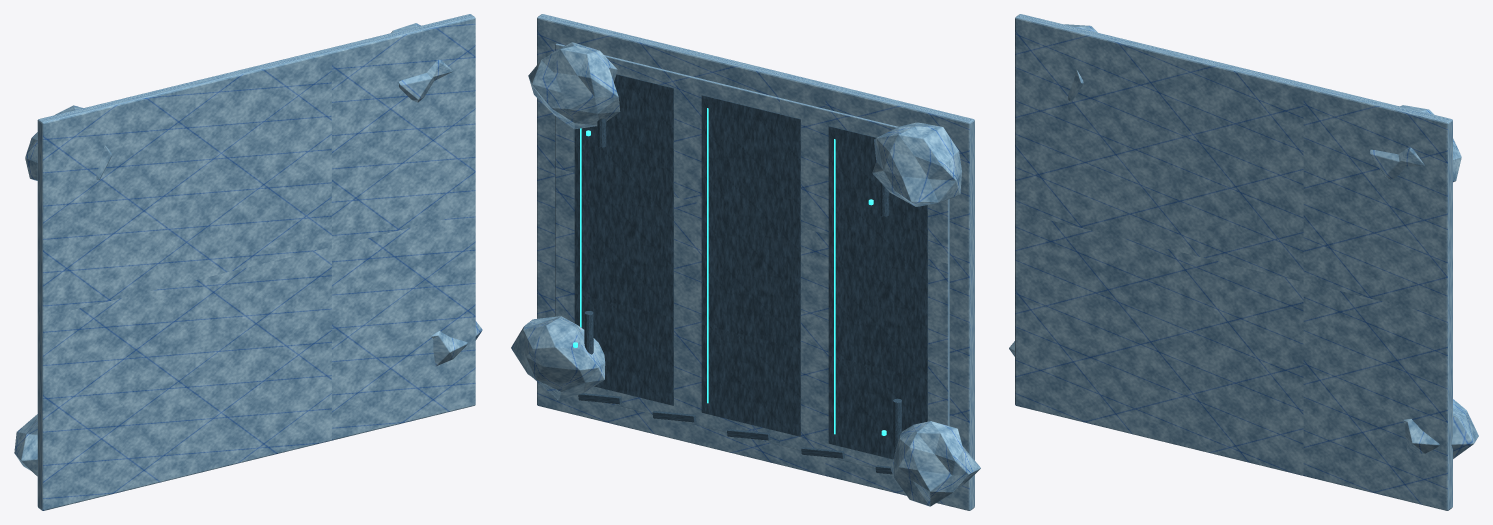
File: expanse_shelf.glb
3 views of the same model, side by side, from view 1: azimuth 30°, elevation 25°; view 2: azimuth 150°, elevation 25°; view 3: azimuth 330°, elevation 25° (orthographic).
Parts seen in each view (by area): view 1: ShelfMass, ShelfIceAnchor_3, ShelfIceAnchor_0, ShelfIceAnchor_1, ShelfIceAnchor_2; view 2: ShelfTop, ShelfPlate_0.0, ShelfMass, ShelfPlate_8.2, ShelfPlate_-8.2, ShelfIceAnchor_2, ShelfIceAnchor_3, ShelfIceAnchor_1, ShelfIceAnchor_0, ShelfGuide_-8.2, ShelfGuide_0.0; view 3: ShelfMass, ShelfIceAnchor_1, ShelfIceAnchor_3.
Boxes of the visible parts, left/top/right/bottom form: ShelfMass: left=37, top=14, right=475, bottom=510; ShelfIceAnchor_3: left=391, top=23, right=453, bottom=102; ShelfIceAnchor_0: left=14, top=414, right=37, bottom=476; ShelfIceAnchor_1: left=431, top=321, right=482, bottom=366; ShelfIceAnchor_2: left=25, top=105, right=111, bottom=180; ShelfTop: left=555, top=43, right=949, bottom=468; ShelfPlate_0.0: left=701, top=95, right=800, bottom=436; ShelfMass: left=537, top=14, right=974, bottom=510; ShelfPlate_8.2: left=574, top=74, right=673, bottom=405; ShelfPlate_-8.2: left=828, top=126, right=927, bottom=459; ShelfIceAnchor_2: left=872, top=122, right=961, bottom=206; ShelfIceAnchor_3: left=528, top=42, right=620, bottom=129; ShelfIceAnchor_1: left=511, top=316, right=605, bottom=400; ShelfIceAnchor_0: left=890, top=421, right=980, bottom=506; ShelfGuide_-8.2: left=834, top=139, right=835, bottom=434; ShelfGuide_0.0: left=707, top=108, right=708, bottom=403; ShelfMass: left=1015, top=14, right=1452, bottom=510; ShelfIceAnchor_1: left=1402, top=399, right=1478, bottom=458; ShelfIceAnchor_3: left=1370, top=105, right=1461, bottom=182.
Bounding box in the file's own units: 29.91 × 24 × 3.94.
Materials: 5 (5 with a texture image).
